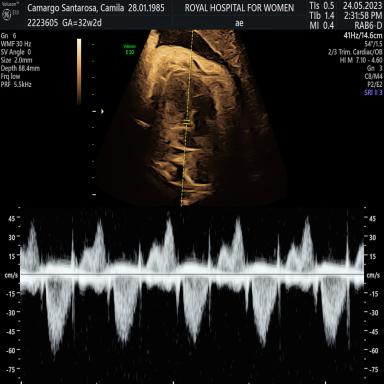Ultrasound-Waves: (27, 207, 360, 384)
